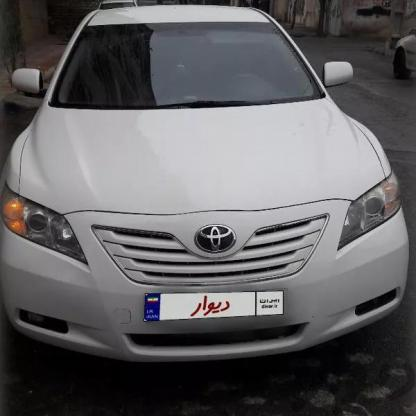Car: (0, 0, 414, 380), (378, 26, 416, 82)
